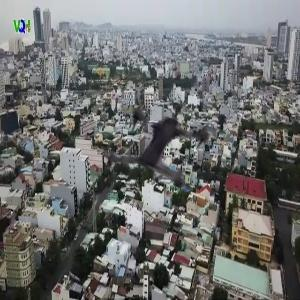drone: (98, 75, 227, 204)
